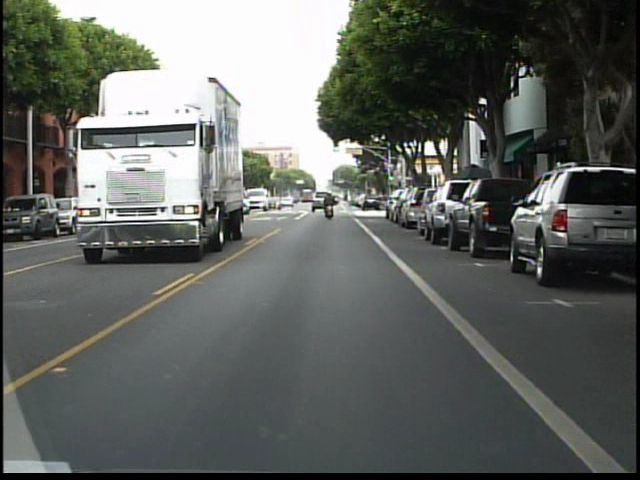person: (323, 192, 337, 223)
